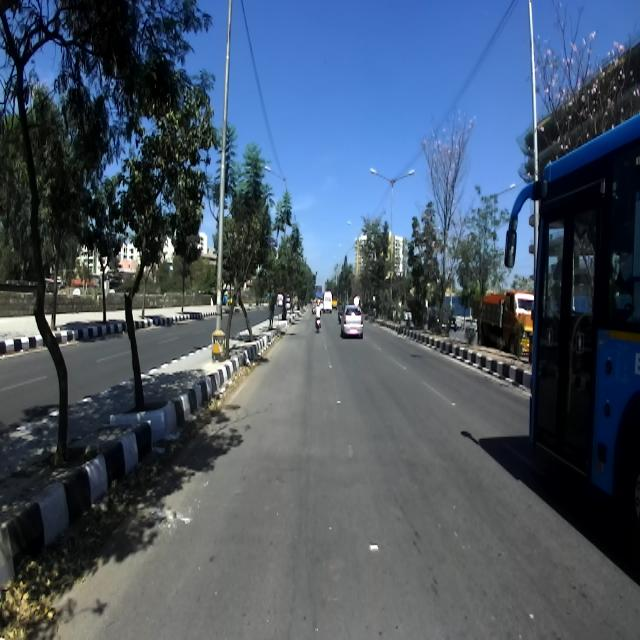bus ahead at: (504, 112, 640, 510)
